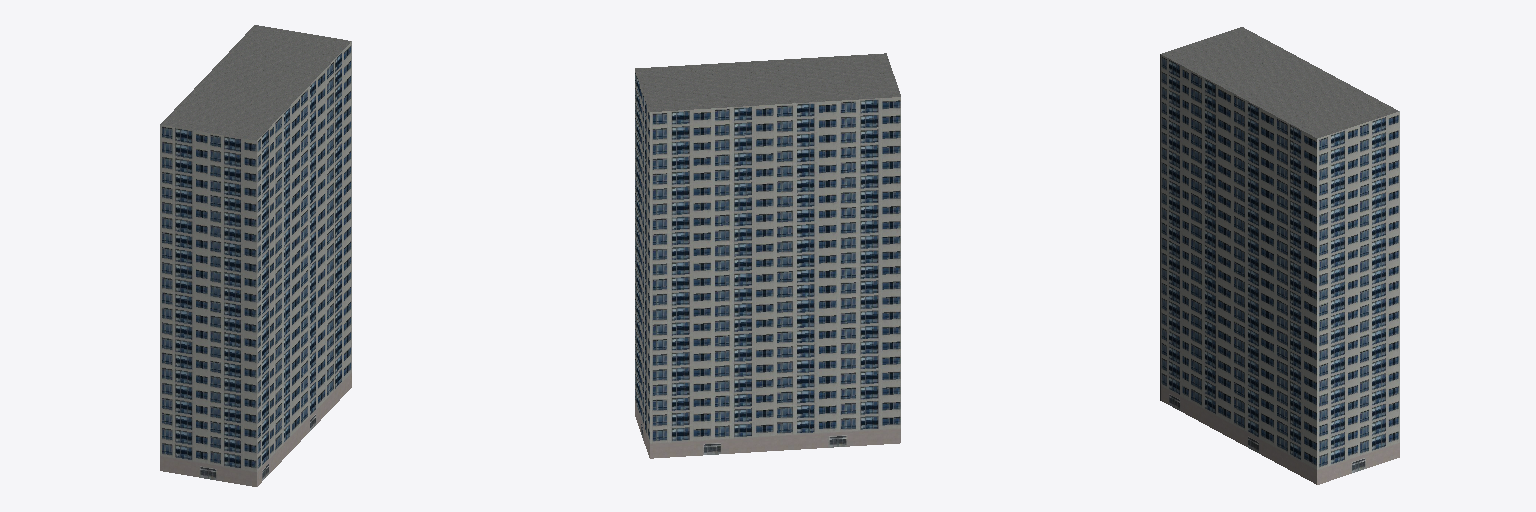
The picture shows the model from 3 angles: view 1: azimuth 30°, elevation 25°; view 2: azimuth 150°, elevation 25°; view 3: azimuth 270°, elevation 25°; orthographic projection.
Visible parts, largest first — view 1: BuildingMaster_[number redacted]_0, BuildingMaster_[number redacted]_1; view 2: BuildingMaster_[number redacted]_0, BuildingMaster_[number redacted]_1; view 3: BuildingMaster_[number redacted]_0, BuildingMaster_[number redacted]_1.
Part boxes in pixels (bbox=[...]): BuildingMaster_[number redacted]_0: bbox=[160, 41, 351, 486]; BuildingMaster_[number redacted]_1: bbox=[160, 25, 350, 140]; BuildingMaster_[number redacted]_0: bbox=[635, 71, 900, 458]; BuildingMaster_[number redacted]_1: bbox=[635, 53, 900, 111]; BuildingMaster_[number redacted]_0: bbox=[1160, 54, 1399, 484]; BuildingMaster_[number redacted]_1: bbox=[1161, 27, 1398, 138].
Bounding box in the file's own units: 55.72 × 80.5 × 50.35.
2 materials, 2 textured.